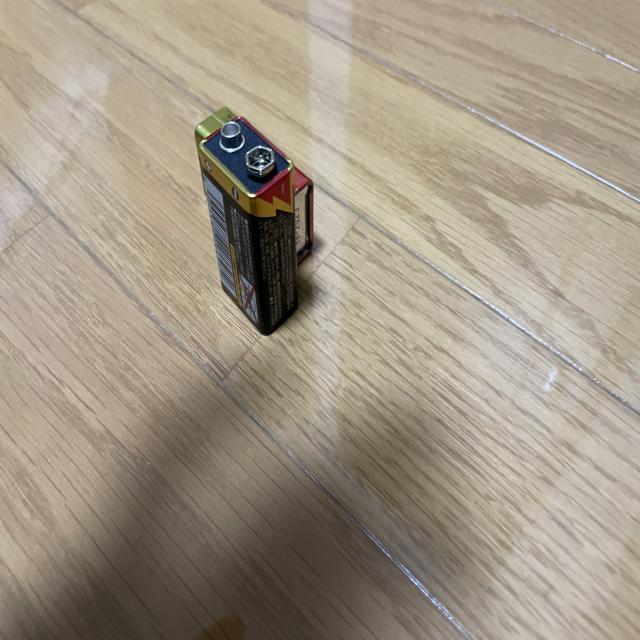9V: (198, 117, 301, 337), (195, 104, 315, 267)
